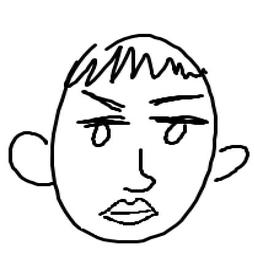cupid_mouth: (95, 196, 159, 228)
ear: (9, 123, 62, 193), (209, 141, 251, 184)
empty_eye: (86, 117, 115, 152), (160, 115, 191, 147)
eyebrow: (148, 91, 206, 108)
frowning_eyebrow: (78, 88, 123, 112)
nose: (124, 141, 158, 193)
